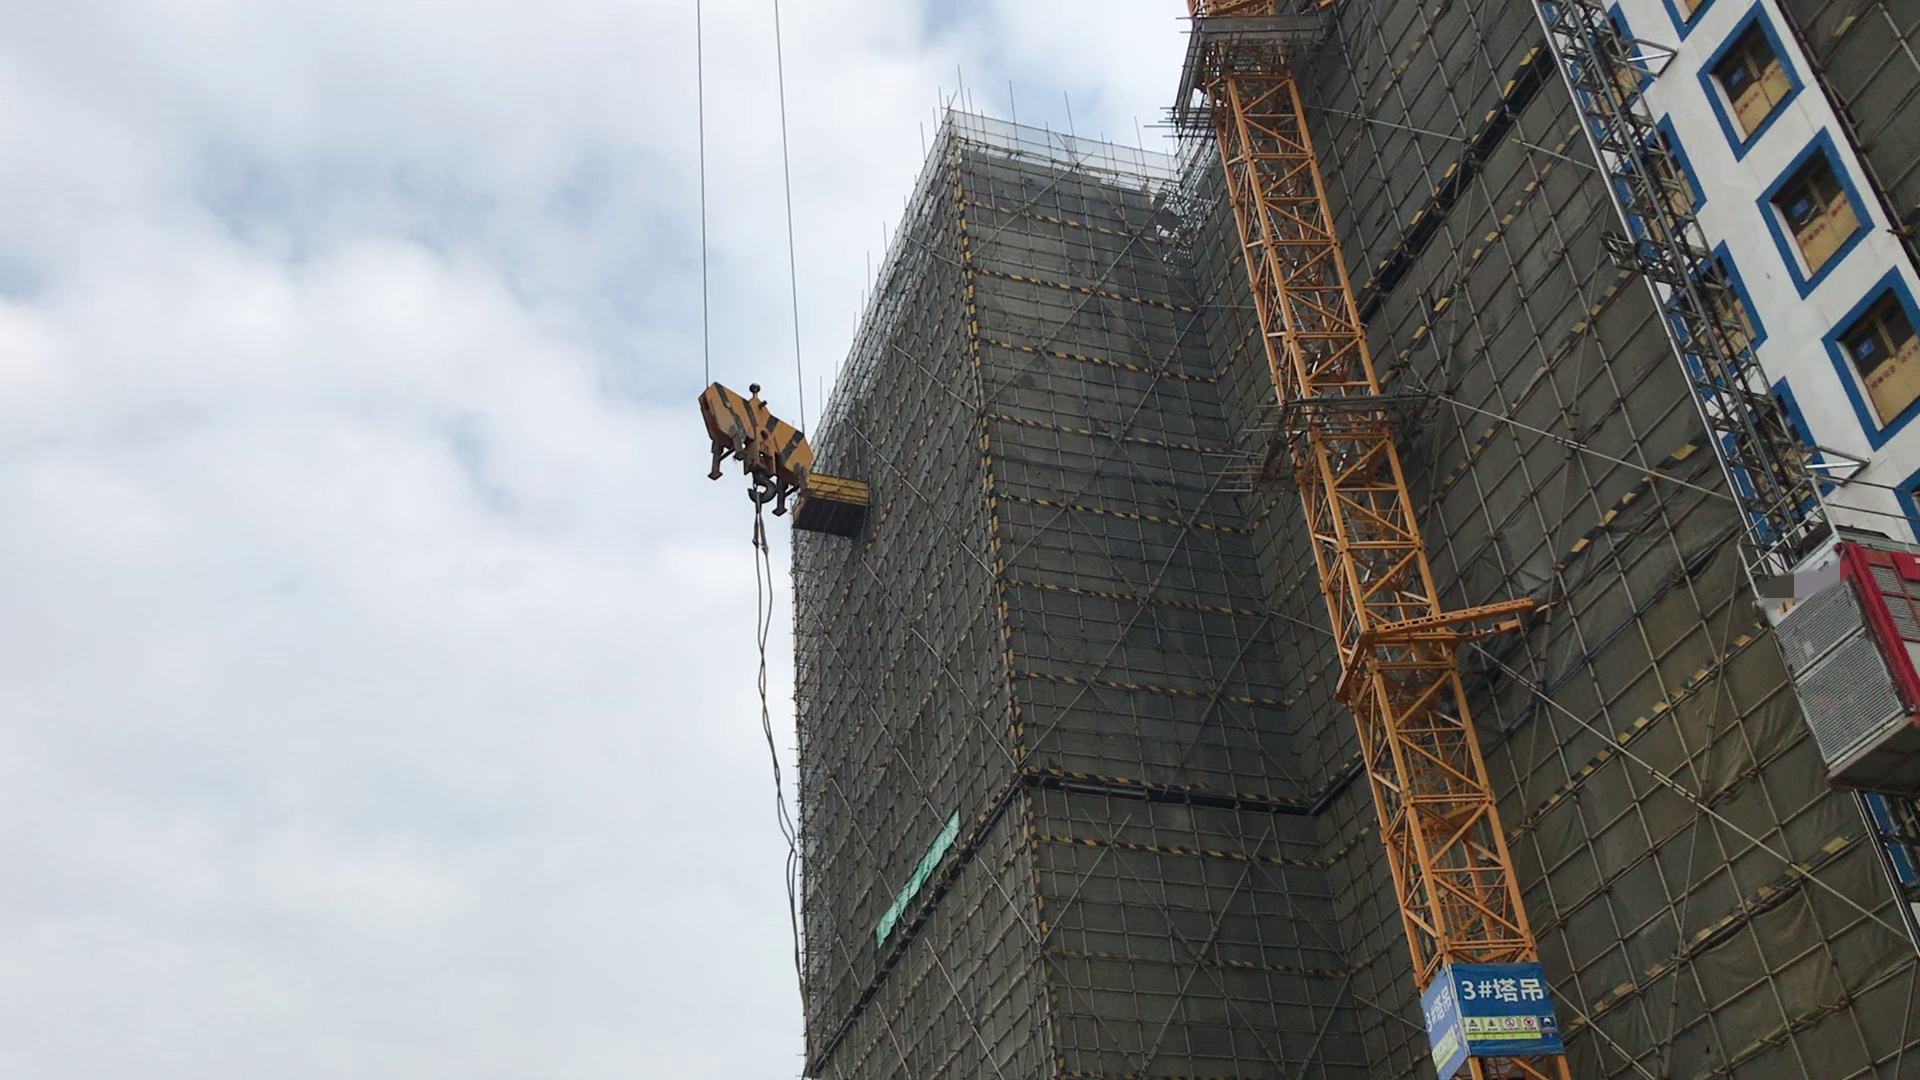fence: (865, 808, 980, 935), (1456, 972, 1549, 1048)
hook: (694, 376, 808, 509)
